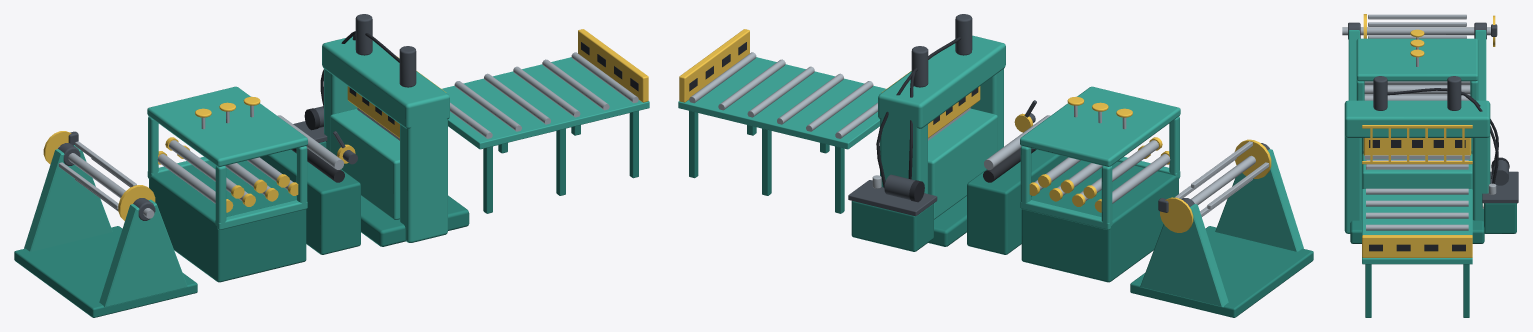
Rendered from guilhotina.glb.
3 views of the same model, side by side, from view 1: azimuth 30°, elevation 25°; view 2: azimuth 150°, elevation 25°; view 3: azimuth 270°, elevation 25° (orthographic). The views are drawn at different scales.
Visible parts, largest first — view 1: base (×4), cavalete (×2), tampo, coluna (×2), tampa, travessa, mesa_inferior, rolete (×5), pe (×3), coluna_lateral (×3), batente, rolo (×2) (+9 smaller); view 2: base (×4), cavalete (×2), tampa (×2), tampo, travessa, mesa_inferior, coluna (×2), rolete (×5), tanque, pe (×3), coluna_lateral (×3), batente (+12 smaller); view 3: tampa (×2), travessa, tampo, coluna (×2), rolete (×4), mesa_inferior, batente, regua (×3), rolo (×3), porta_lamina, cavalete (×2), eixo (+10 smaller).
Boxes of the visible parts, x1=… form: base (×4): x1=14, y1=149, x2=469, y2=317; cavalete (×2): x1=24, y1=145, x2=187, y2=307; tampo: x1=442, y1=57, x2=649, y2=149; coluna (×2): x1=324, y1=37, x2=447, y2=242; tampa: x1=147, y1=86, x2=307, y2=166; travessa: x1=322, y1=36, x2=449, y2=128; mesa_inferior: x1=330, y1=108, x2=399, y2=219; rolete (×5): x1=454, y1=52, x2=638, y2=131; pe (×3): x1=483, y1=111, x2=638, y2=213; coluna_lateral (×3): x1=148, y1=116, x2=307, y2=228; batente: x1=578, y1=29, x2=648, y2=102; rolo (×2): x1=157, y1=140, x2=236, y2=203; base (×4): x1=928, y1=149, x2=1313, y2=317; cavalete (×2): x1=1140, y1=149, x2=1303, y2=307; tampa (×2): x1=848, y1=86, x2=1180, y2=216; tampo: x1=678, y1=57, x2=885, y2=149; travessa: x1=878, y1=36, x2=1005, y2=128; mesa_inferior: x1=928, y1=108, x2=997, y2=219; coluna (×2): x1=880, y1=36, x2=1003, y2=193; rolete (×5): x1=689, y1=52, x2=873, y2=131; tanque: x1=851, y1=201, x2=933, y2=251; pe (×3): x1=689, y1=111, x2=844, y2=213; coluna_lateral (×3): x1=1020, y1=116, x2=1179, y2=227; batente: x1=679, y1=29, x2=749, y2=102; tampa (×2): x1=1356, y1=38, x2=1518, y2=203; travessa: x1=1344, y1=100, x2=1490, y2=137; tampo: x1=1362, y1=189, x2=1472, y2=264; coluna (×2): x1=1344, y1=101, x2=1490, y2=233; rolete (×4): x1=1366, y1=188, x2=1468, y2=230; mesa_inferior: x1=1362, y1=153, x2=1472, y2=189; batente: x1=1362, y1=235, x2=1472, y2=257; regua (×3): x1=1368, y1=14, x2=1466, y2=38; rolo (×3): x1=1364, y1=81, x2=1470, y2=100; porta_lamina: x1=1363, y1=138, x2=1471, y2=155; cavalete (×2): x1=1348, y1=30, x2=1486, y2=100; eixo: x1=1342, y1=27, x2=1490, y2=35.
Bounding box in the file's own units: 6.95 × 2.07 × 2.23.
